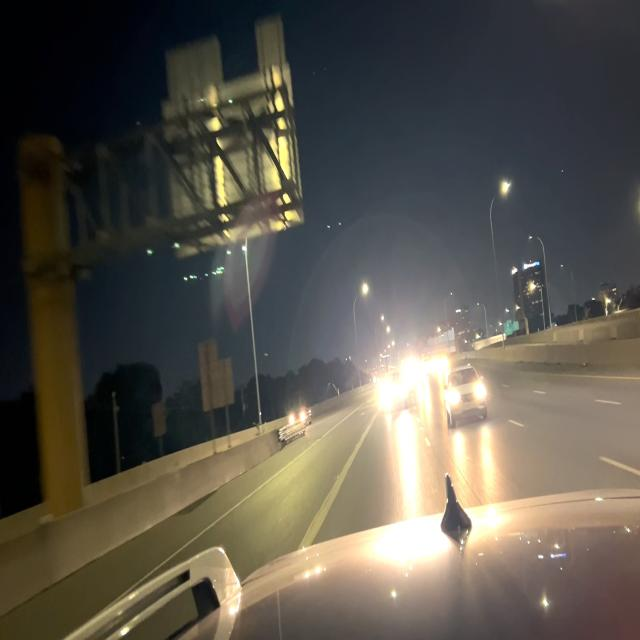back-of-sign: (160, 17, 304, 264), (198, 336, 236, 415)
